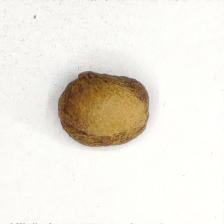NG: (90, 70, 147, 100)
